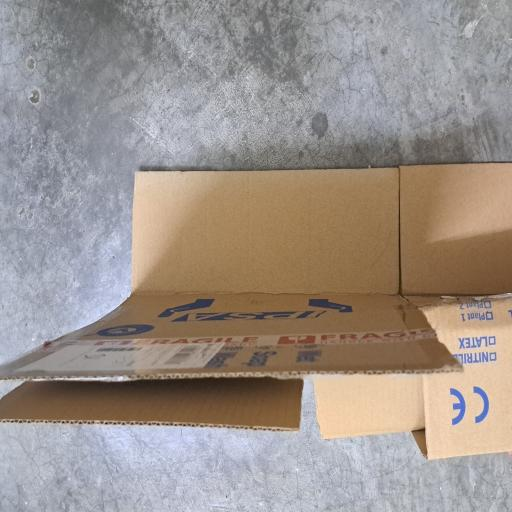cardboard: (37, 0, 261, 512)
